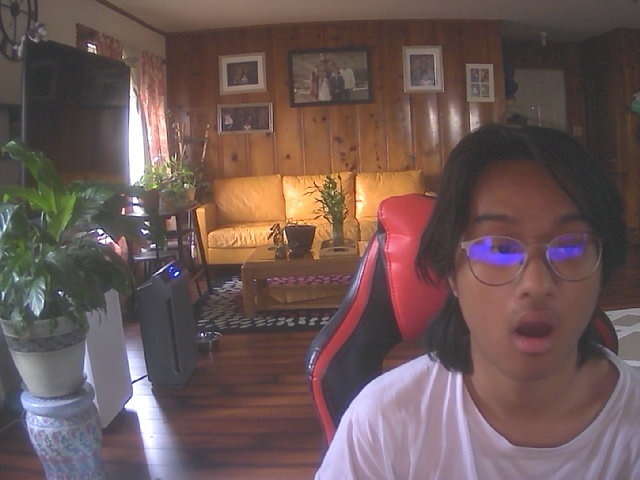fear: (441, 136, 618, 385)
